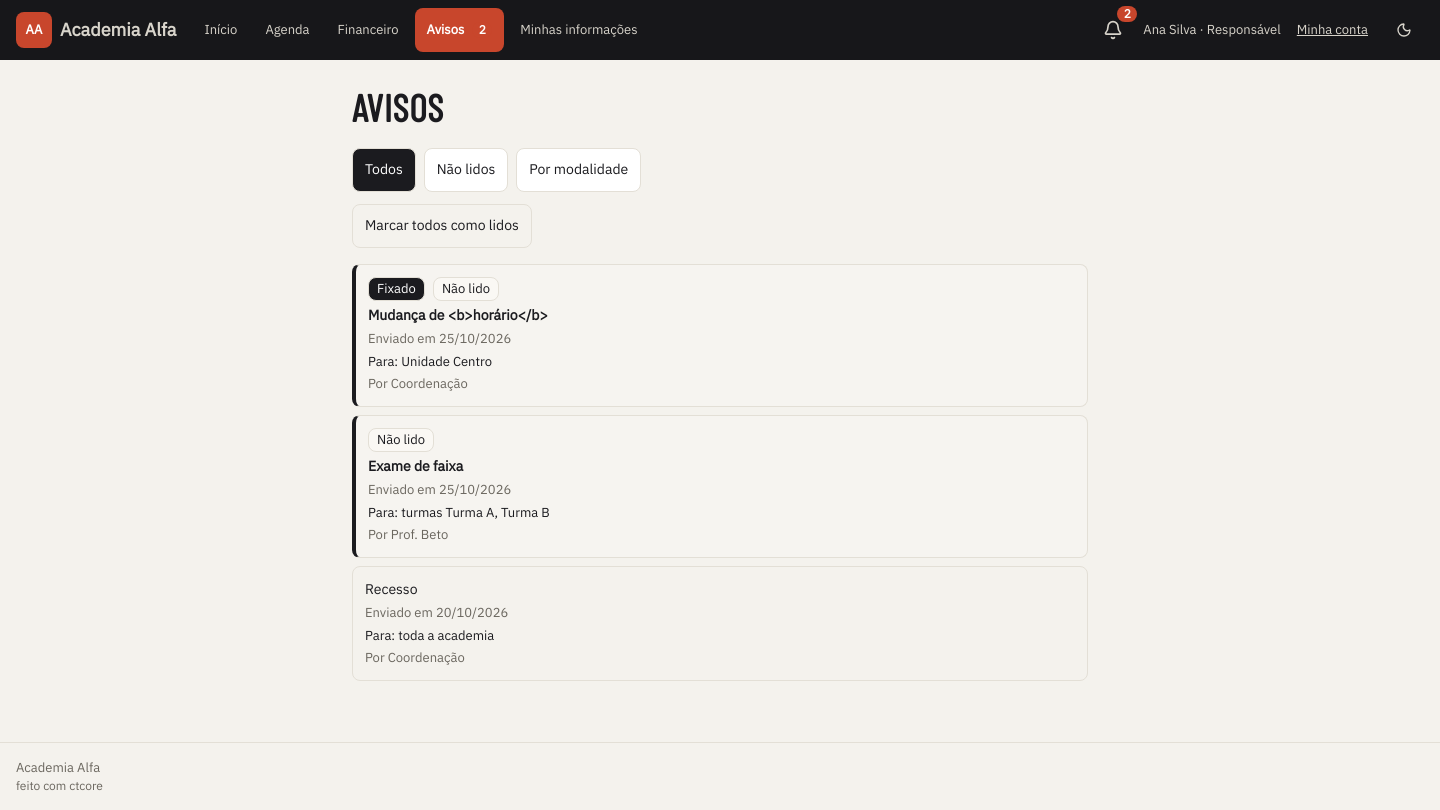
Scenario: PortalAnnouncementsPage (RF-POR-06) › CA13: Marcar todos como lidos limpa, relê e fica desligado sem não lidos
Click the button "Marcar todos como lidos": (442, 226) x1=352 y1=204 x2=532 y2=248
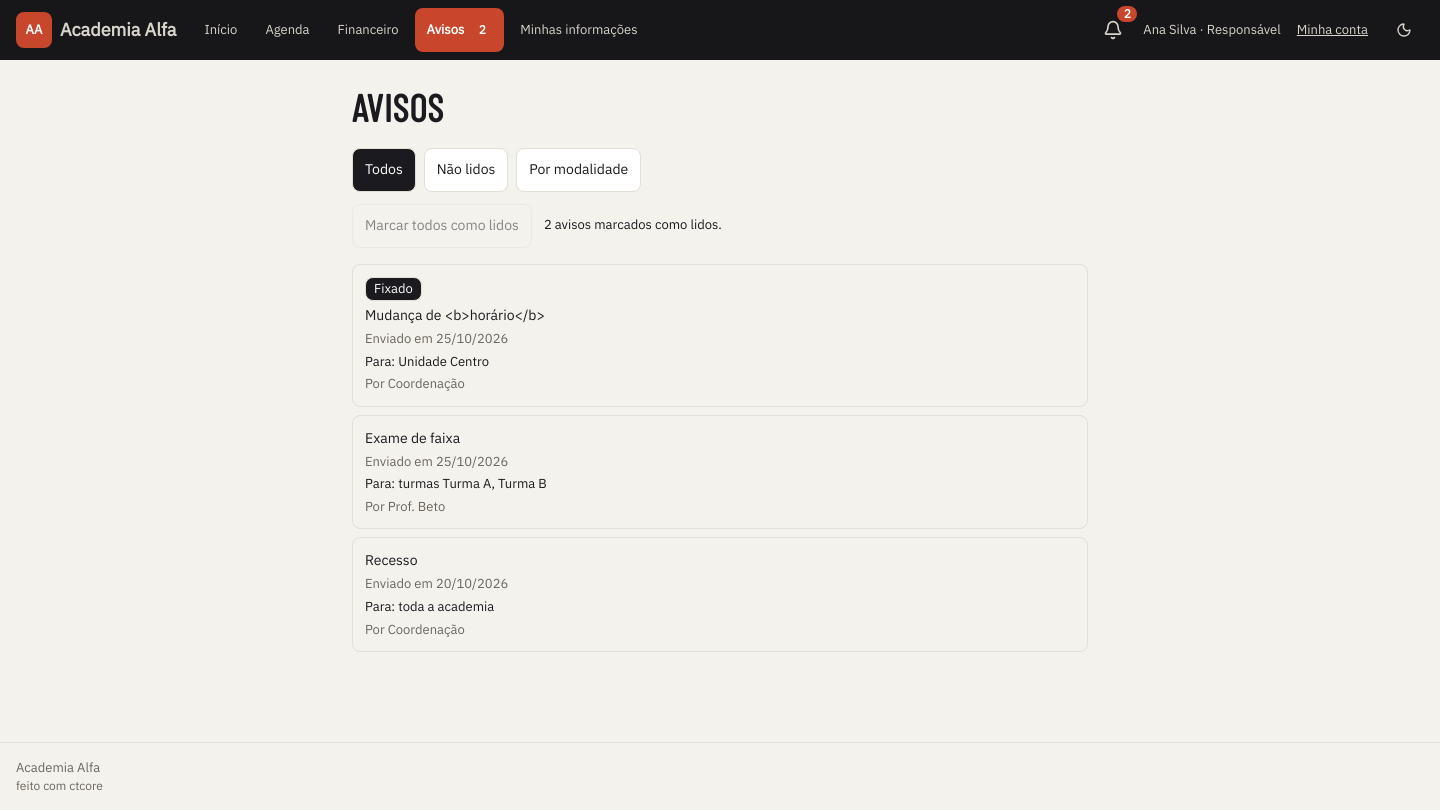
Expected: the text "2 avisos marcados como lidos." is shown, x1=544 y1=216 x2=722 y2=235
Expected: the button "Marcar todos como lidos" is disabled, x1=352 y1=204 x2=532 y2=248
